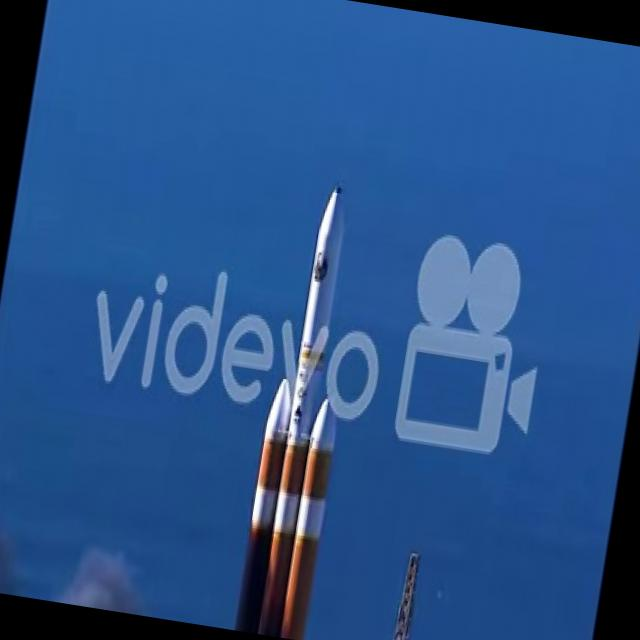rocket: (228, 181, 382, 640)
